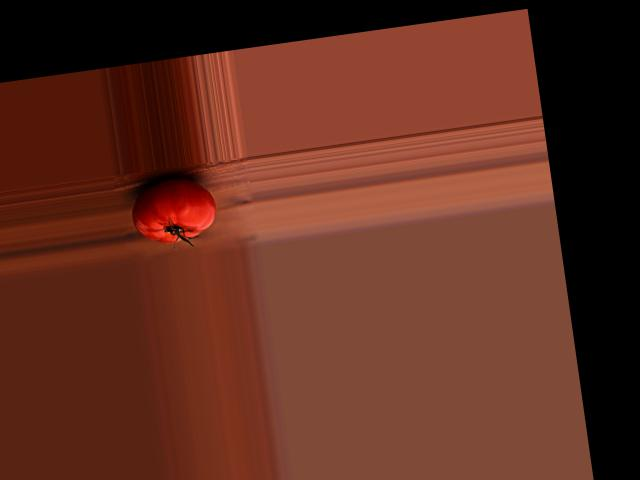tomato: (128, 172, 221, 247)
